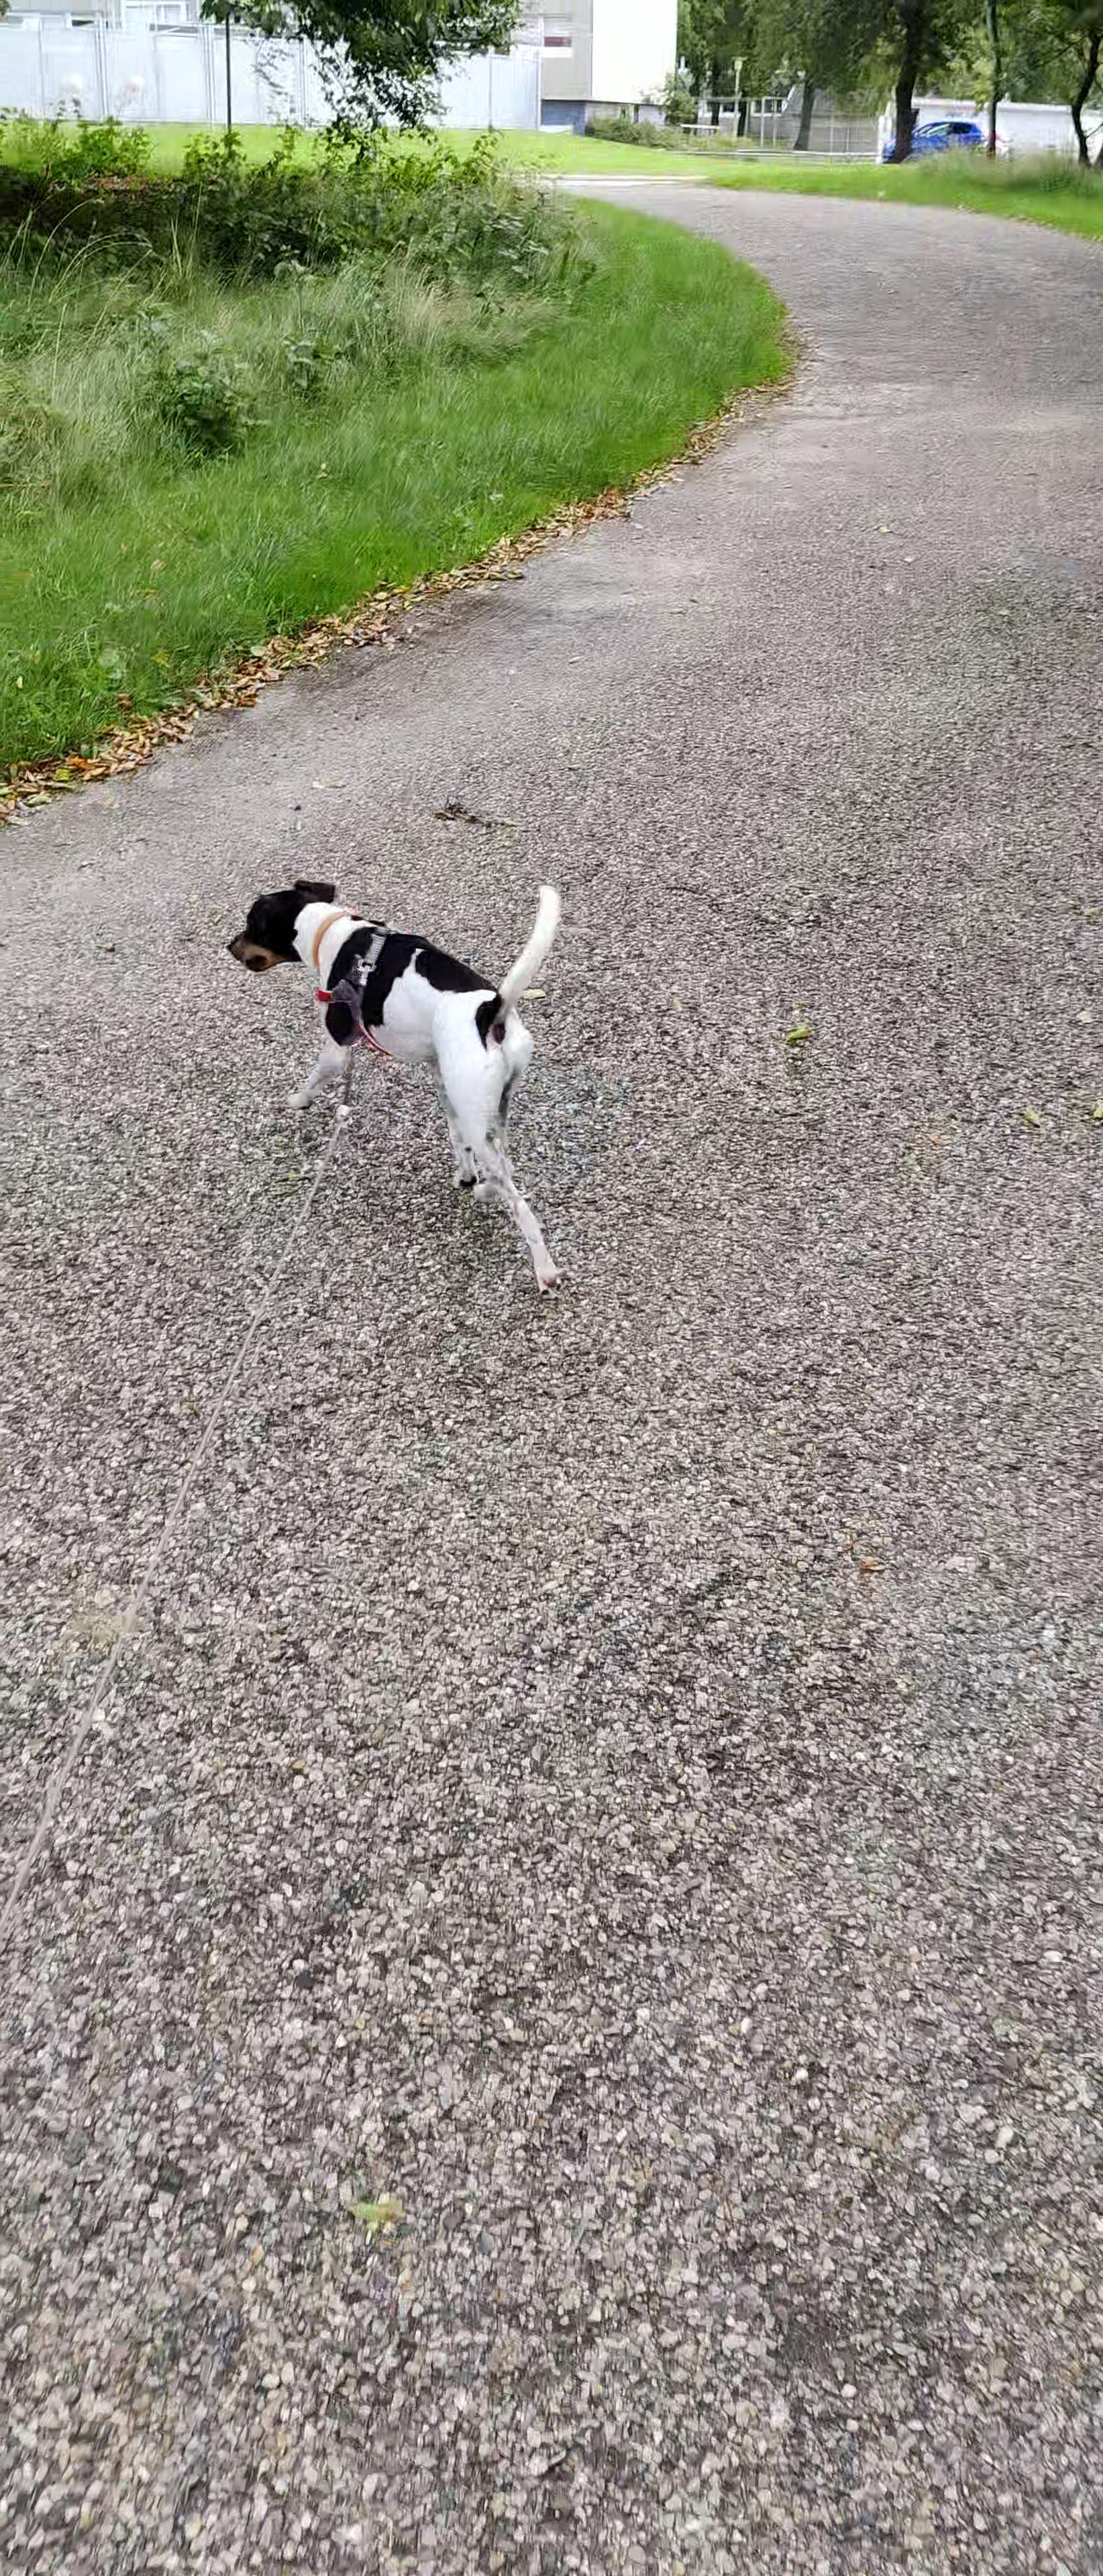Dog: (204, 828, 603, 1319)
